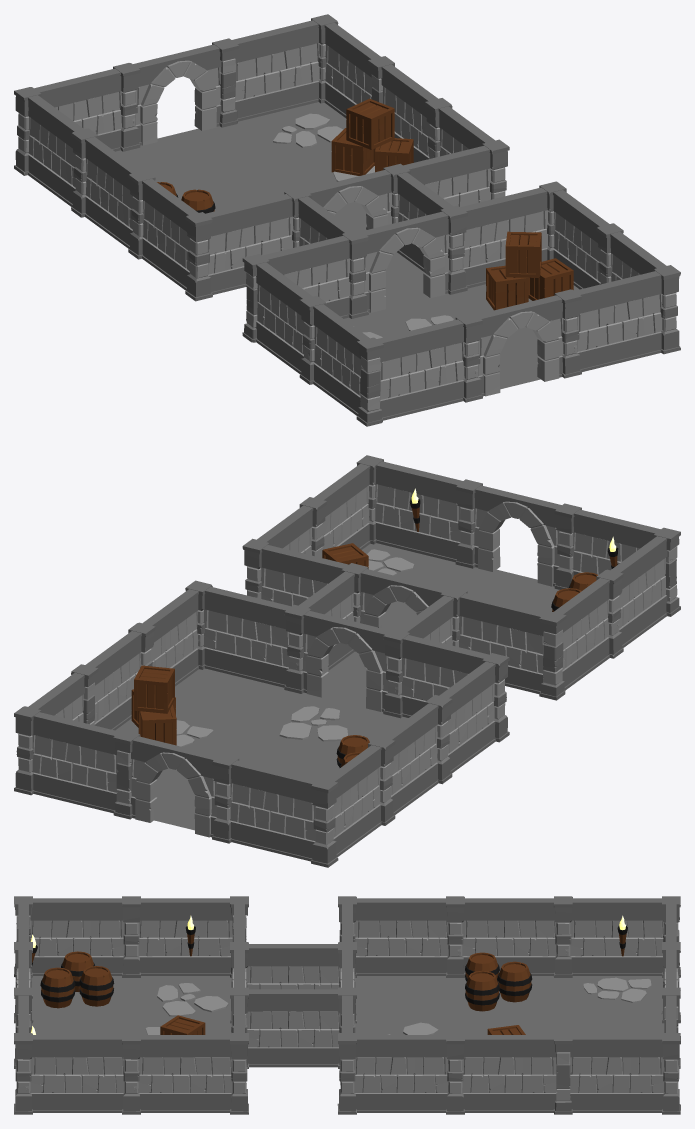
Rendered from mod_dungeon.glb.
3 views of the same model, one above another, from view 1: azimuth 30°, elevation 25°; view 2: azimuth 150°, elevation 25°; view 3: azimuth 270°, elevation 25° (orthographic). The views are drawn at different scales.
Parts seen in each view (by area): view 1: wall_module_1.003, wall_module_2.014, wall_module_1.001, door_1.001, door_1.004, door_1.003, wall_module_2.006, wall_module_2.008, wall_module_2.010, floor_module-plain.002, wall_module_2.001, wall_module_2.015 (+26 smaller); view 2: wall_module_2.001, wall_module_1.001, wall_module_2.014, wall_module_2.004, door_1.001, door_1.002, door_1.004, wall_module_1.004, wall_module_2.016, wall_module_2.006, wall_module_2.005, wall_module_2.015 (+23 smaller); view 3: wall_module_2.002, wall_module_2.013, wall_module_2.003, wall_module_2.012, wall_module_1.002, wall_module_2.005, wall_module_2.008, wall_module_2.007, wall_module_2.015, wall_module_1.004, wall_module_2.011, wall_module_2.009 (+29 smaller).
Boxes of the visible parts, bbox=[...] form: wall_module_1.003: bbox=[356, 319, 464, 426]; wall_module_2.014: bbox=[554, 271, 662, 378]; wall_module_1.001: bbox=[212, 20, 320, 127]; door_1.001: bbox=[113, 44, 221, 151]; door_1.004: bbox=[455, 295, 563, 402]; door_1.003: bbox=[361, 205, 467, 312]; wall_module_2.006: bbox=[205, 188, 311, 294]; wall_module_2.008: bbox=[142, 178, 212, 301]; wall_module_2.010: bbox=[460, 181, 566, 288]; floor_module-plain.002: bbox=[132, 125, 282, 187]; wall_module_2.001: bbox=[14, 68, 122, 175]; wall_module_2.015: bbox=[299, 295, 369, 415]; wall_module_2.001: bbox=[230, 760, 338, 867]; wall_module_1.001: bbox=[32, 712, 140, 819]; wall_module_2.014: bbox=[375, 461, 482, 568]; wall_module_2.004: bbox=[185, 580, 291, 687]; door_1.001: bbox=[130, 736, 239, 843]; door_1.002: bbox=[284, 604, 390, 711]; door_1.004: bbox=[474, 485, 581, 589]; wall_module_1.004: bbox=[539, 578, 609, 700]; wall_module_2.016: bbox=[458, 593, 546, 693]; wall_module_2.006: bbox=[383, 629, 489, 718]; wall_module_2.005: bbox=[325, 736, 395, 857]; wall_module_2.015: bbox=[596, 536, 667, 658]; wall_module_2.002: bbox=[570, 1033, 680, 1114]; wall_module_2.013: bbox=[14, 1033, 124, 1114]; wall_module_2.003: bbox=[354, 1033, 464, 1114]; wall_module_2.012: bbox=[122, 1033, 232, 1114]; wall_module_1.002: bbox=[462, 1033, 572, 1114]; wall_module_2.005: bbox=[553, 896, 664, 977]; wall_module_2.008: bbox=[338, 896, 448, 977]; wall_module_2.007: bbox=[446, 896, 556, 977]; wall_module_2.015: bbox=[30, 896, 140, 977]; wall_module_1.004: bbox=[138, 896, 248, 977]; wall_module_2.011: bbox=[246, 989, 340, 1067]; wall_module_2.009: bbox=[230, 942, 340, 1023].
Bounding box in the file's own units: 12.72 × 3.07 × 24.71.
